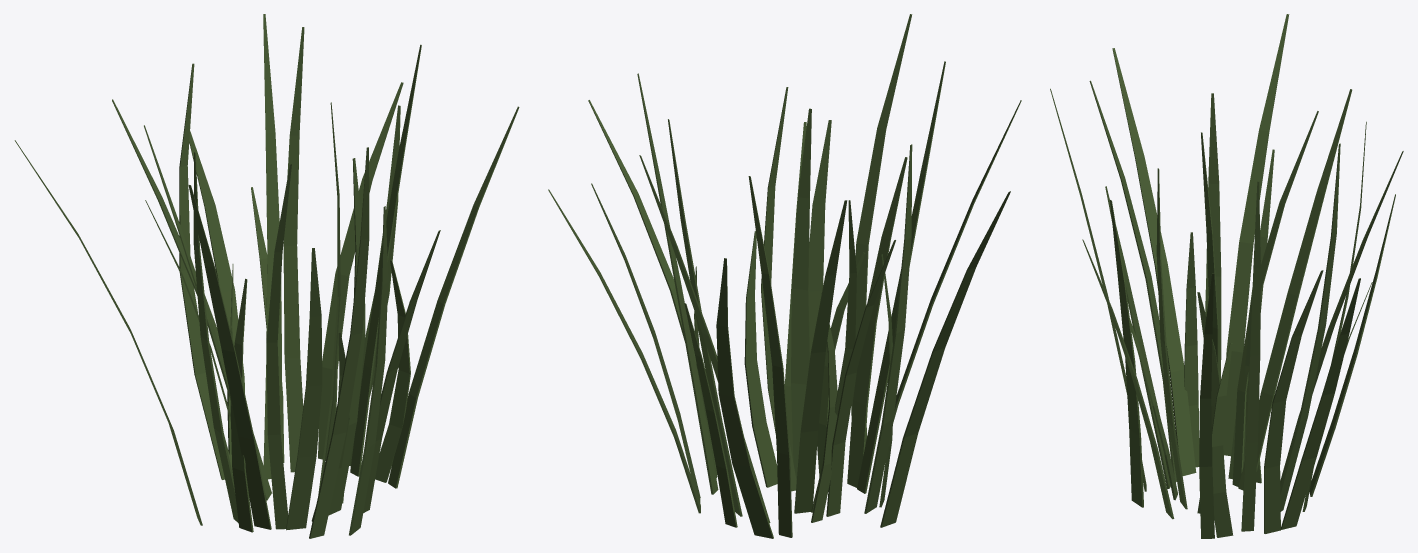
File: plant_010b_ribbon_grass.glb
3 views of the same model, side by side, from view 1: azimuth 30°, elevation 25°; view 2: azimuth 150°, elevation 25°; view 3: azimuth 270°, elevation 25° (orthographic). The views are drawn at different scales.
Parts seen in each view (by area): view 1: plant_010b_ribbon_grass__blades; view 2: plant_010b_ribbon_grass__blades; view 3: plant_010b_ribbon_grass__blades.
Part boxes in pixels (bbox=[...]): plant_010b_ribbon_grass__blades: bbox=[14, 14, 519, 538]; plant_010b_ribbon_grass__blades: bbox=[548, 14, 1021, 538]; plant_010b_ribbon_grass__blades: bbox=[1050, 14, 1403, 538].
Size of the model in its own units: 1.98 by 1.74 by 1.39.
